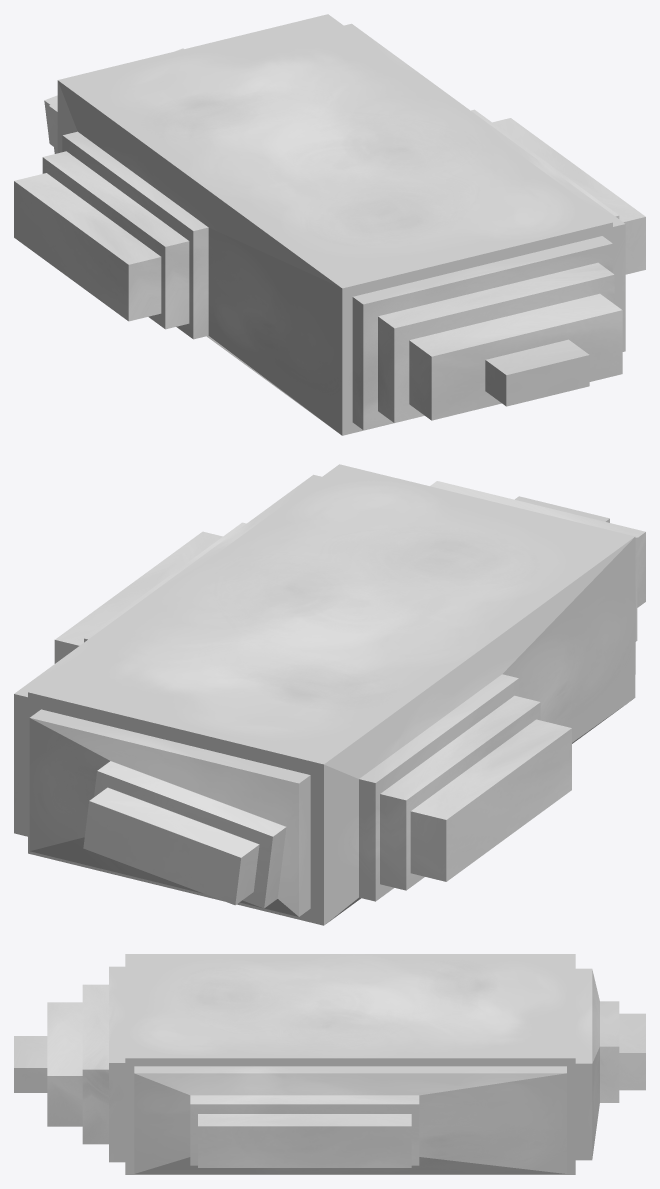
Rendered from cloud1.FBX.
The picture shows the model from 3 angles, top to bottom: view 1: azimuth 30°, elevation 25°; view 2: azimuth 150°, elevation 25°; view 3: azimuth 270°, elevation 25°; orthographic projection. The views are drawn at different scales.
Visible parts, largest first — view 1: Box001; view 2: Box001; view 3: Box001.
Part boxes in pixels (x1,y1,x2,y2): Box001: (14,14,645,435); Box001: (14,464,645,925); Box001: (14,954,645,1174).
Bounding box in the file's own units: 49.83 × 16.42 × 80.71.
1 material, 1 textured.
